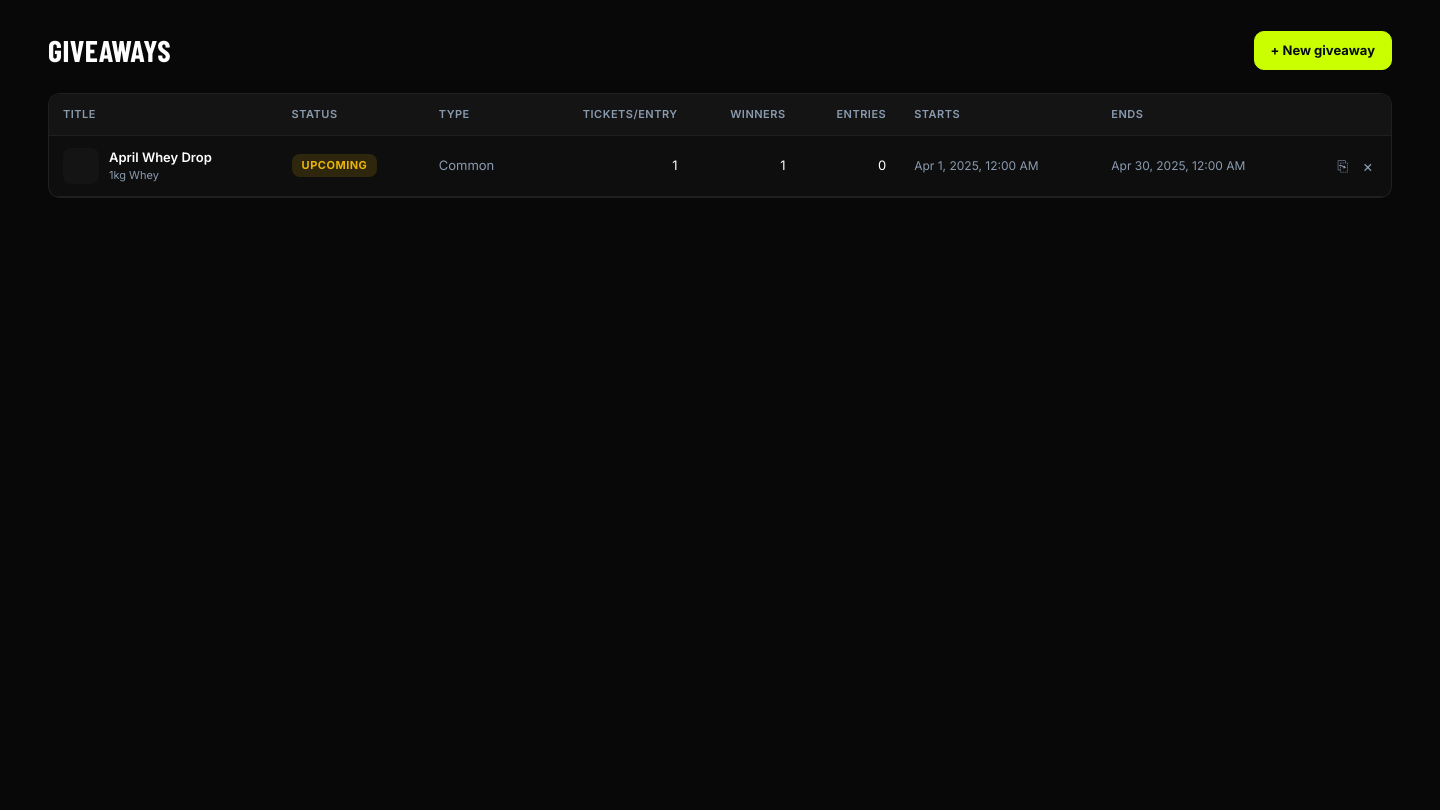
Test: GiveawaysPage › clicking a row opens the edit modal with row data
Click the text "April Whey Drop" at (160, 157), box [109, 148, 212, 167]
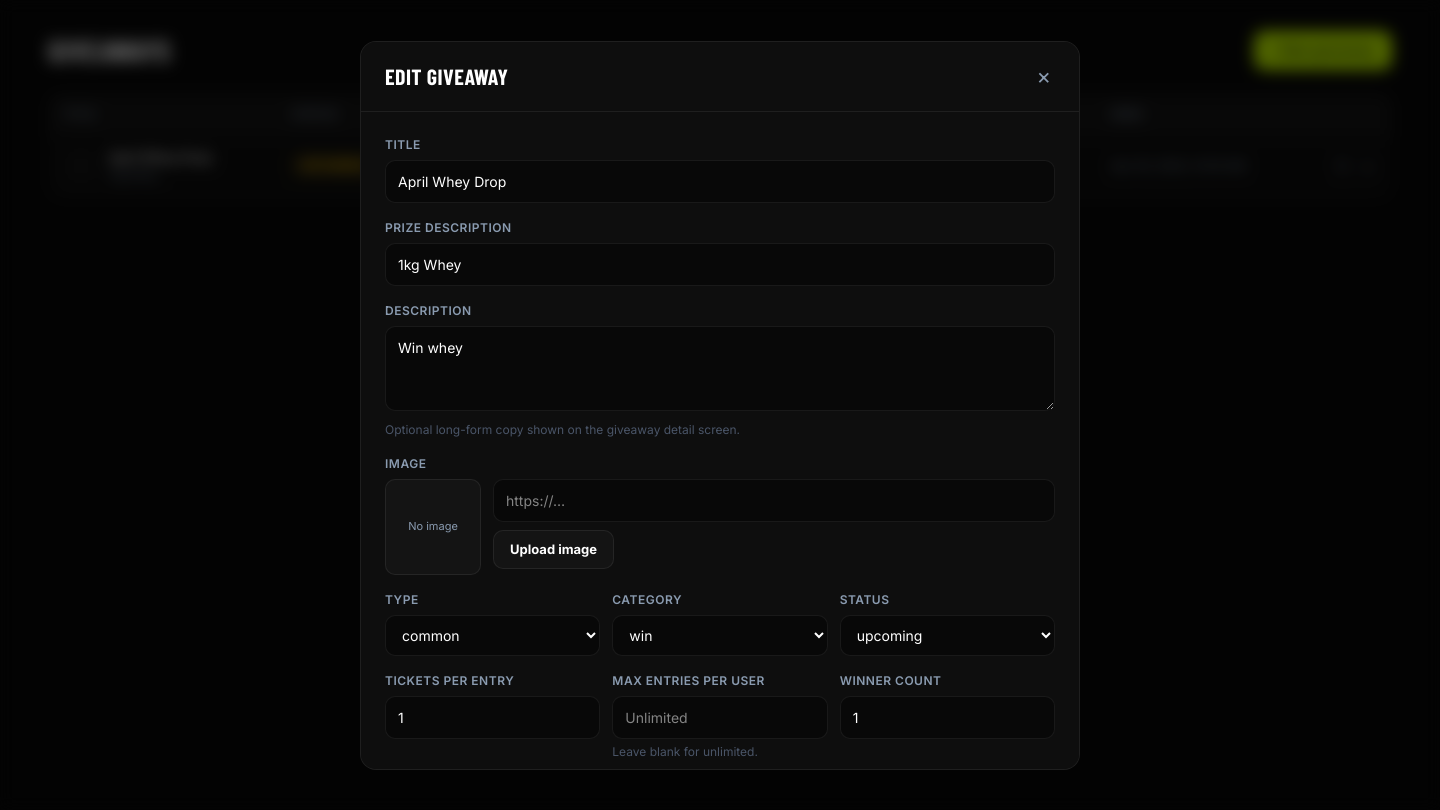
Result: the heading "Edit giveaway" is shown at [385, 60, 508, 92]
Result: the field with placeholder "e.g. April Protein Powder Drop" holds "April Whey Drop" at [385, 160, 1055, 202]
